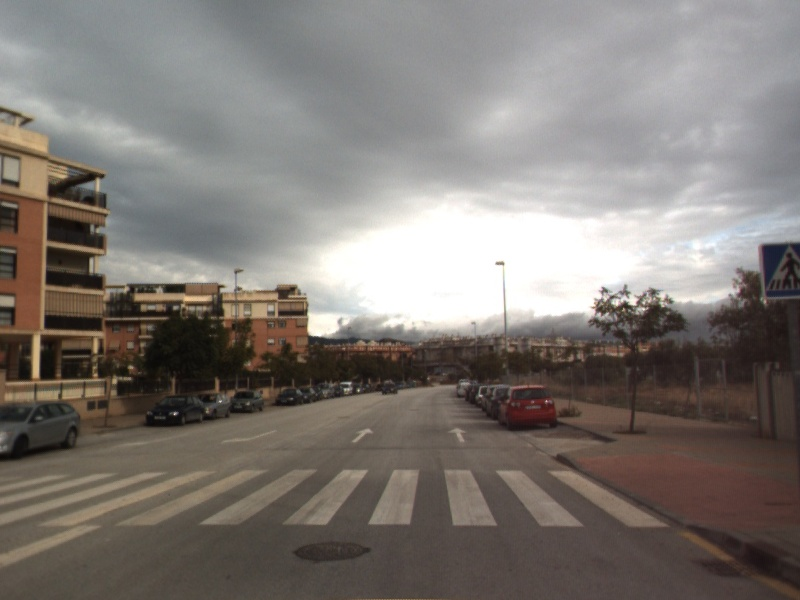STRAIGHT: (350, 426, 376, 444), (446, 425, 469, 444)
